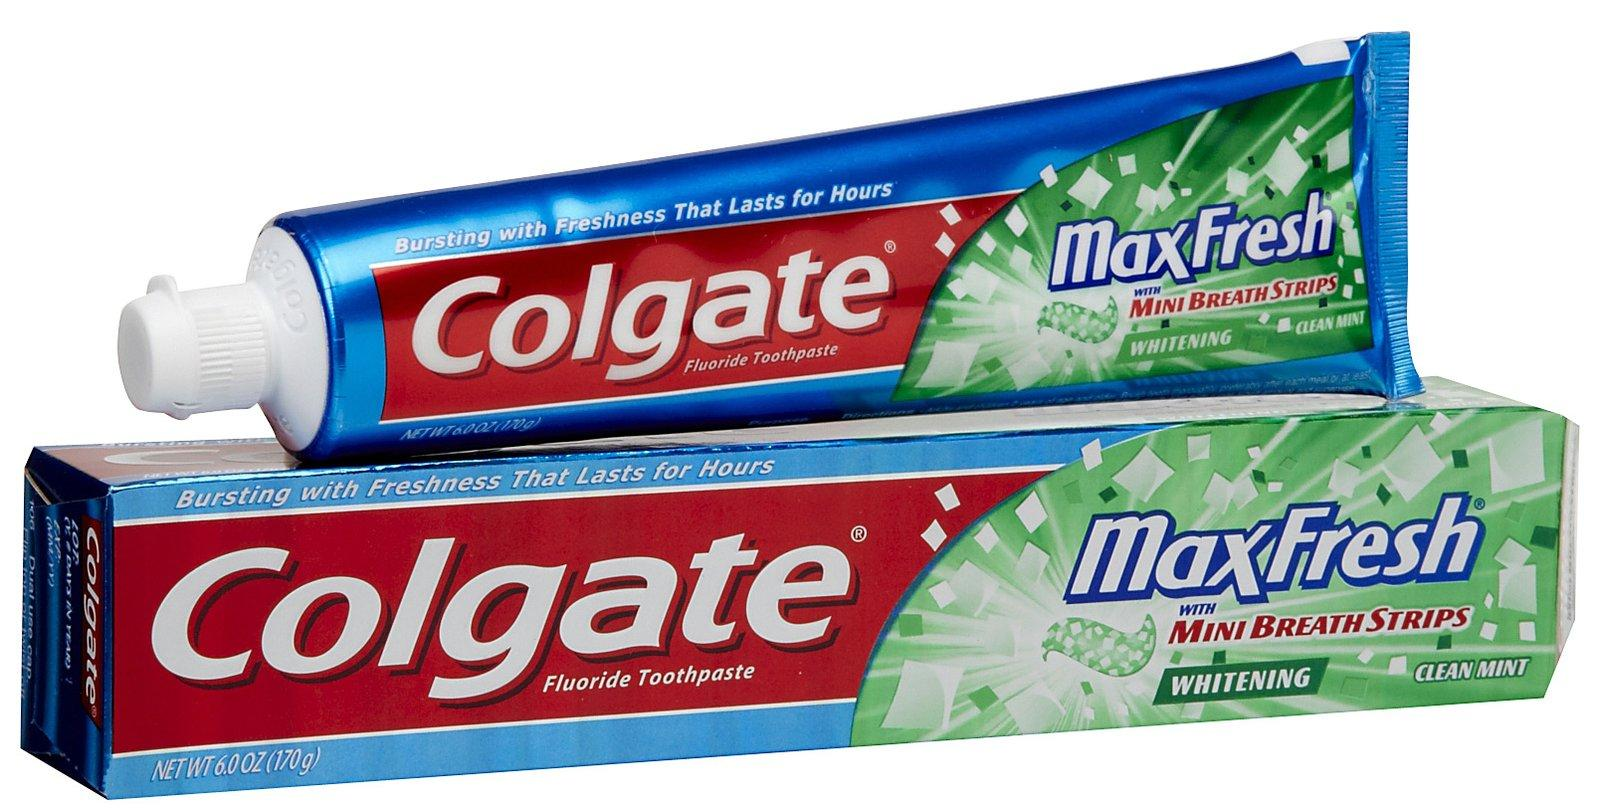toothpaste: (4, 407, 1578, 800), (98, 19, 1468, 456)
